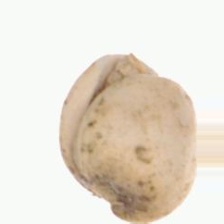L3: (100, 56, 178, 84)
L4: (60, 54, 196, 222)
